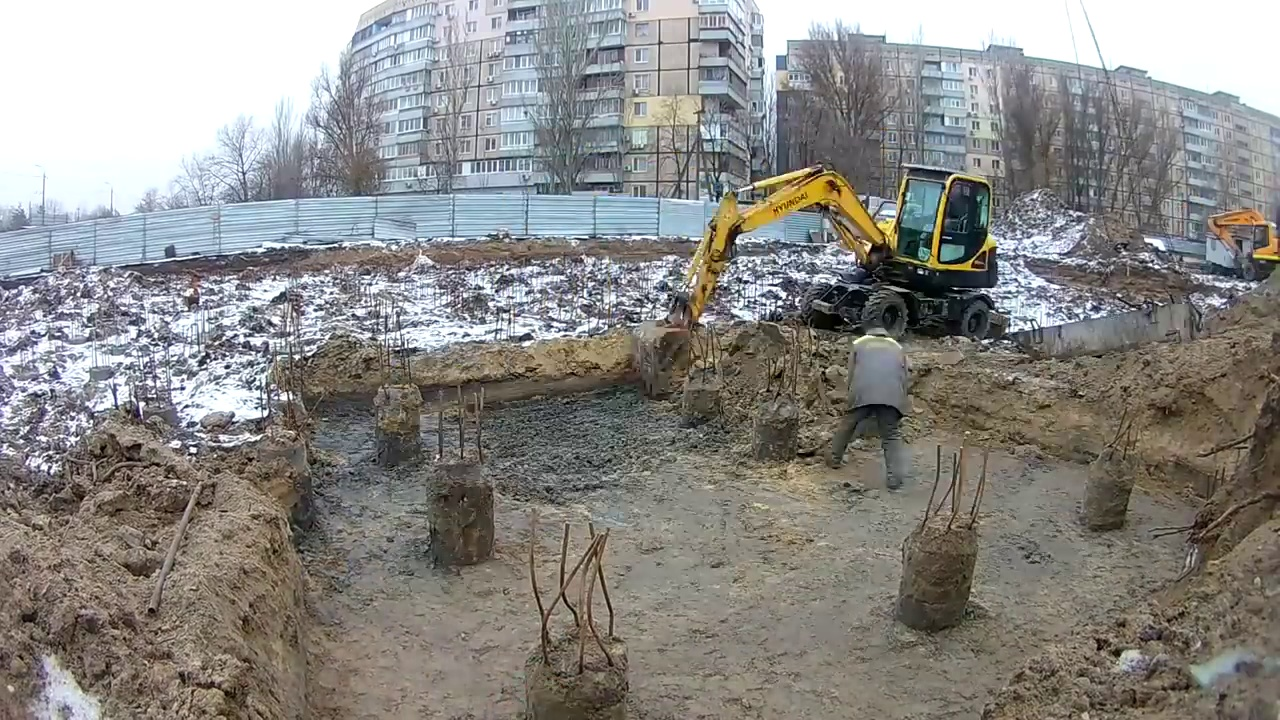helmet-off: (859, 319, 890, 340)
person: (823, 319, 912, 494)
